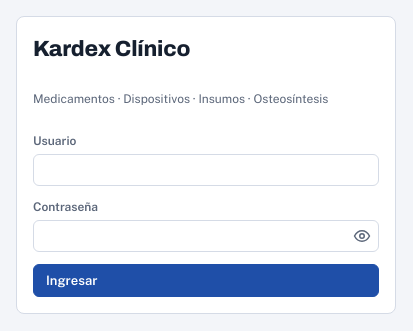
Test: login › el botón del ojo muestra y oculta la contraseña
The image size is (413, 331).
Type "Secreta1" into the password field labelled "Contraseña" at (206, 236), box x1=33 y1=220 x2=379 y2=252
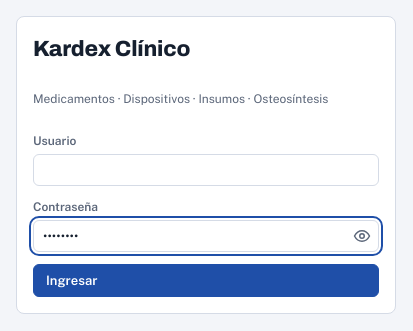
Click the button named "Mostrar contraseña" at (362, 236), box x1=349 y1=223 x2=375 y2=249
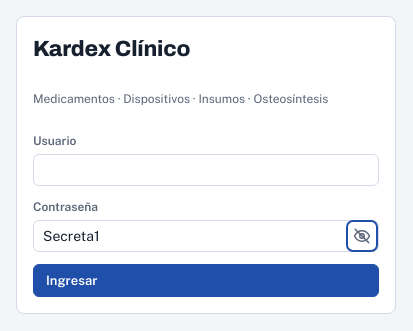
Now the field labelled "Contraseña" shows its text, box x1=33 y1=220 x2=379 y2=252
Click the button named "Ocultar contraseña" at (362, 236), box x1=349 y1=223 x2=375 y2=249
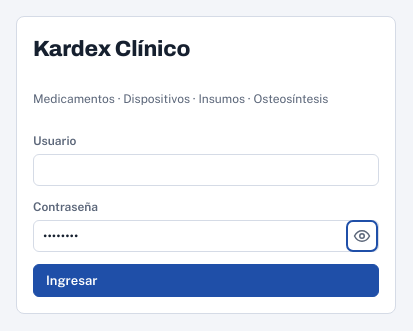
Now the password field labelled "Contraseña" hides its text, box x1=33 y1=220 x2=379 y2=252
